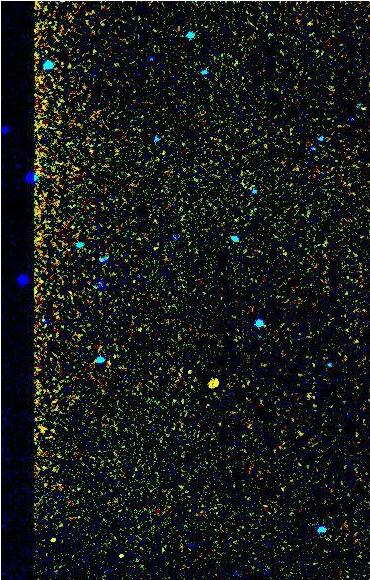star: (105, 541, 135, 571)
